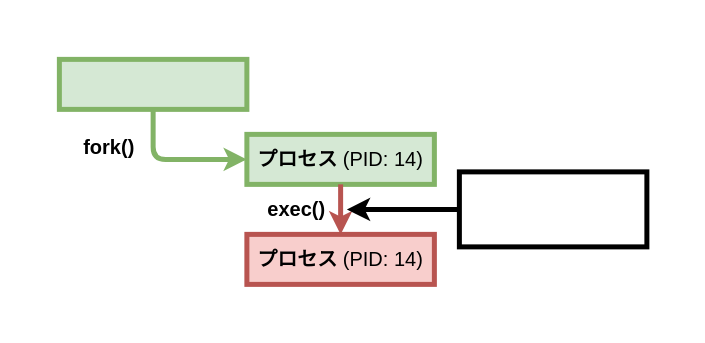
This 705x343 diagram has some shape labels left out. The shapes that lost their labels are listed below. From the top down, each one's centre as x and y in pixels, then its label:
the point at 152,83: プロセス (PID: 10)
the point at 552,209: アプリケーション コード
